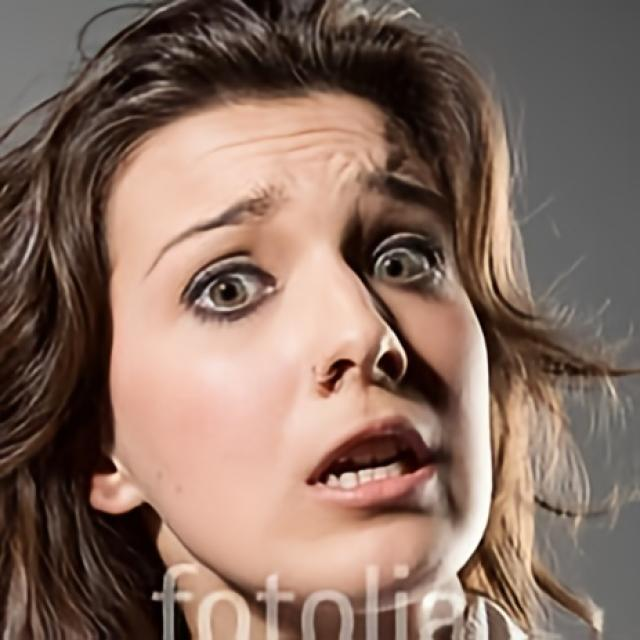fear: (105, 83, 492, 622)
